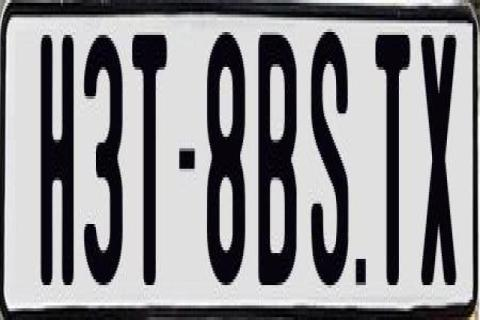0: (81, 32, 121, 300), (207, 24, 247, 282)
B: (255, 26, 299, 291)
H: (40, 35, 78, 288)
S: (311, 32, 349, 300)
T: (129, 35, 169, 299), (373, 29, 411, 297)
X: (421, 32, 460, 285)
